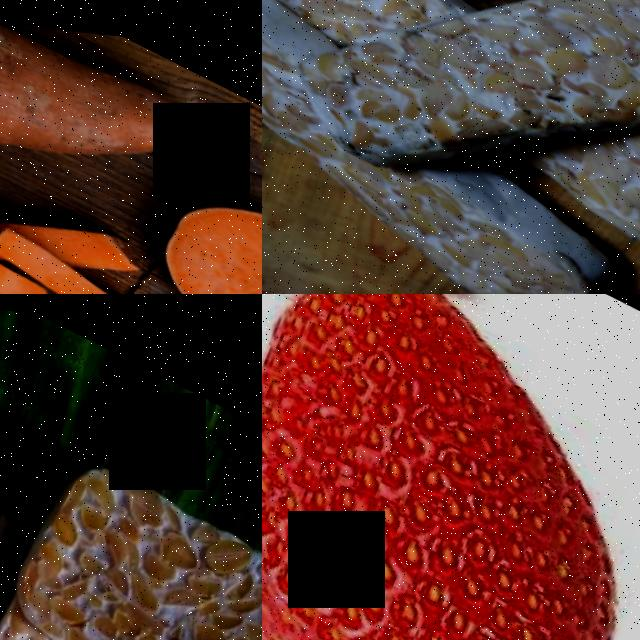strawberry: (262, 294, 640, 640)
sweet potato: (0, 3, 207, 240), (146, 161, 262, 294)
tempeh: (4, 428, 262, 640), (285, 0, 487, 188), (390, 145, 613, 294), (454, 0, 640, 174), (543, 112, 640, 247), (262, 0, 335, 134), (262, 0, 400, 46)
